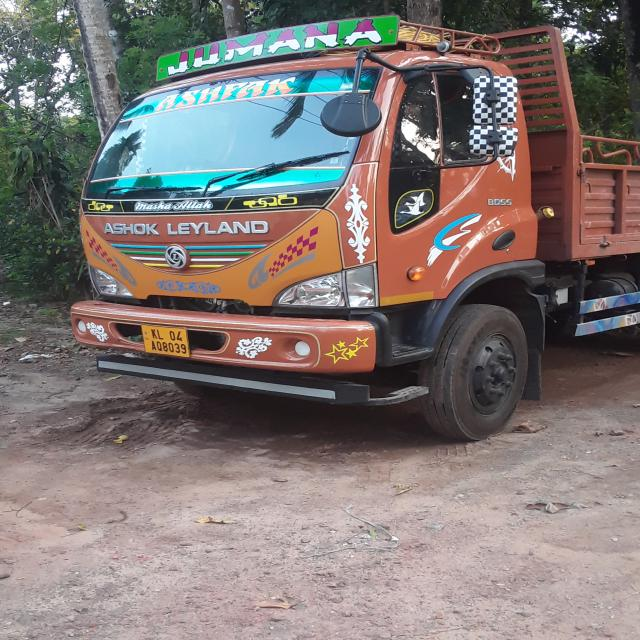Truck: (61, 12, 640, 448)
